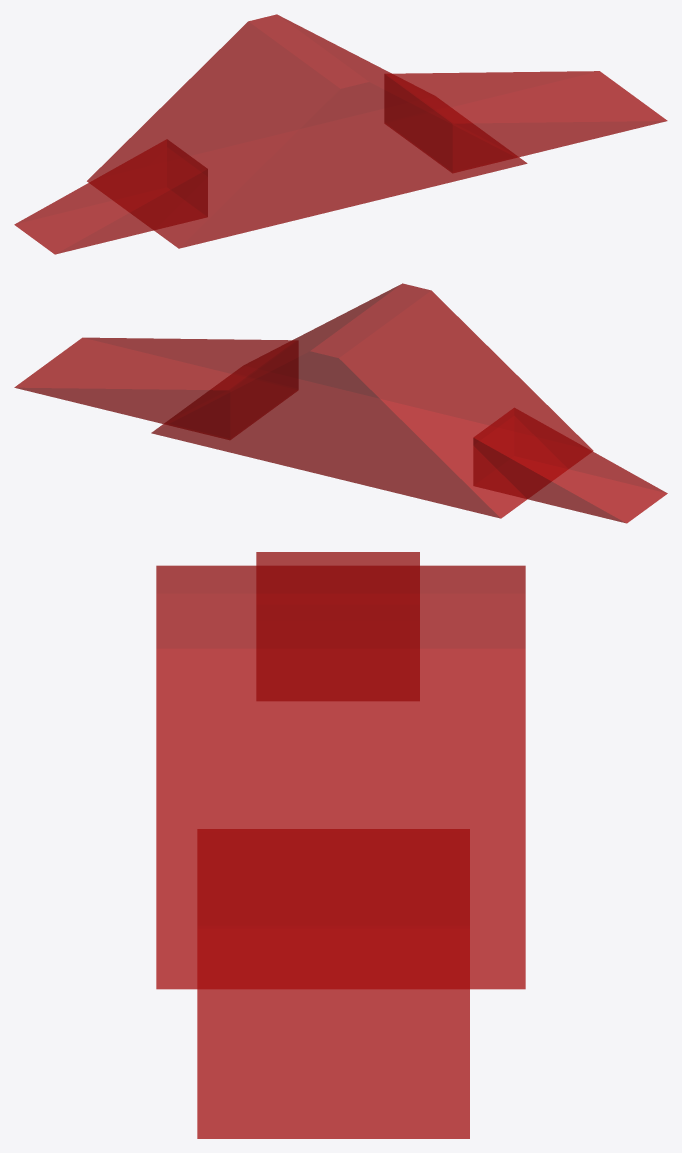
File: SM_Prop_Ramp_04_Collision.fbx
3 views of the same model, one above another, from view 1: azimuth 30°, elevation 25°; view 2: azimuth 150°, elevation 25°; view 3: azimuth 270°, elevation 25° (orthographic). The views are drawn at different scales.
Visible parts, largest first — view 1: SM_Prop_Ramp_04_Collision; view 2: SM_Prop_Ramp_04_Collision; view 3: SM_Prop_Ramp_04_Collision.
Part boxes in pixels (bbox=[...]): SM_Prop_Ramp_04_Collision: bbox=[14, 14, 667, 254]; SM_Prop_Ramp_04_Collision: bbox=[14, 283, 667, 523]; SM_Prop_Ramp_04_Collision: bbox=[156, 552, 525, 1138].
Bounding box in the file's own units: 478 × 93.1 × 128.
